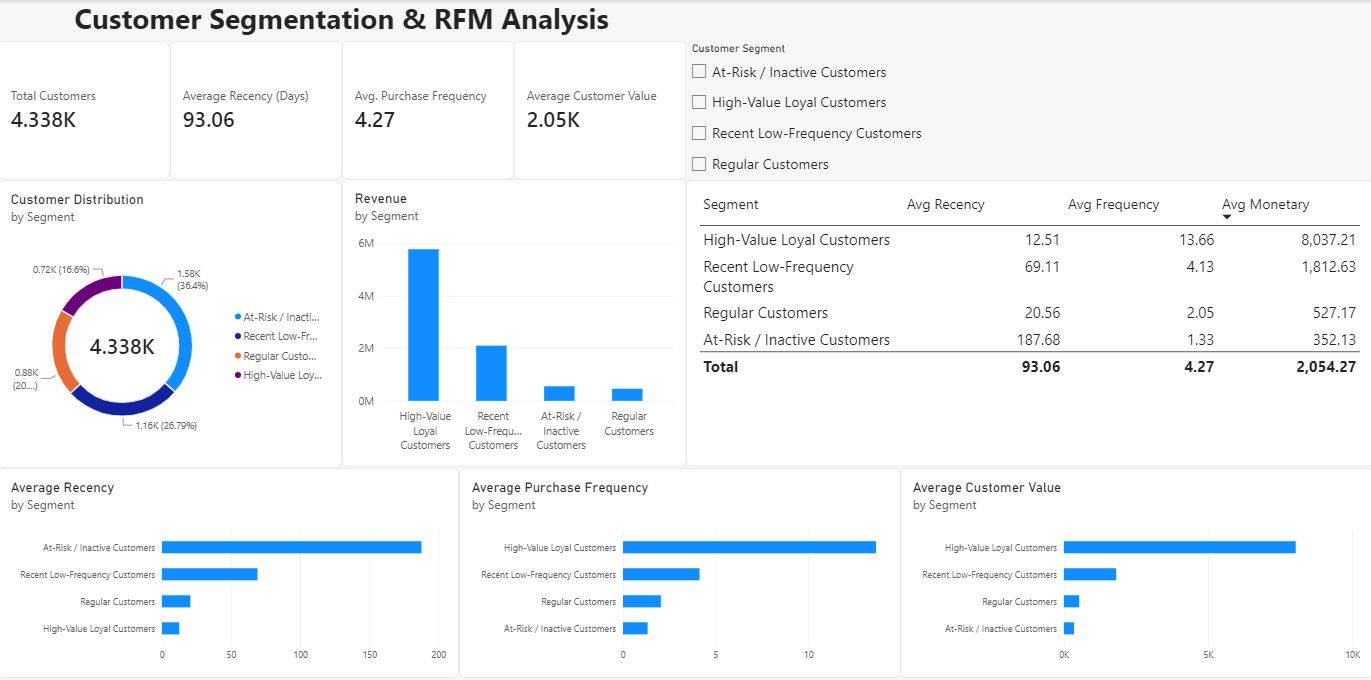

The page's visual inventory and layout, read from the dashboard file:
{"tool":"powerbi","page":{"name":"Customer Segmentation","canvas":[1920,1080],"ordinal":1},"visuals":[{"type":"textbox","box":[24.3,-0.7,914.3,55.7],"z":0},{"type":"cardVisual","fields":{"Data":["Count(customer_segments.CustomerID)"]},"box":[24.3,55,228.6,184.3],"z":1000},{"type":"cardVisual","fields":{"Data":["Avg(customer_segments.Recency)"]},"box":[252.9,55,229,184],"z":2000},{"type":"cardVisual","fields":{"Data":["Avg(customer_segments.Frequency)"]},"box":[481.4,55,229,184],"z":3000},{"type":"cardVisual","fields":{"Data":["Avg(customer_segments.Monetary)"]},"box":[710,55,229,184],"z":4000},{"type":"donutChart","fields":{"Category":["customer_segments.Segment"],"Y":["Count(customer_segments.CustomerID)"]},"box":[24.3,239.3,457.1,382.9],"z":5000},{"type":"clusteredColumnChart","fields":{"Category":["customer_segments.Segment"],"Y":["Sum(customer_segments.Monetary)"]},"box":[481.8,238.7,457.5,383.1],"z":6000},{"type":"tableEx","fields":{"Values":["customer_segments.Segment","customer_segments.Recency","customer_segments.Frequency","customer_segments.Monetary"]},"box":[938.6,240,914.3,381.4],"z":7000},{"type":"clusteredBarChart","fields":{"Category":["customer_segments.Segment"],"Y":["Avg(customer_segments.Recency)"]},"box":[24.3,622.9,612.9,278.6],"z":8000},{"type":"clusteredBarChart","fields":{"Category":["customer_segments.Segment"],"Y":["Avg(customer_segments.Frequency)"]},"box":[637.1,622.9,587.1,278.6],"z":9000},{"type":"slicer","fields":{"Values":["customer_segments.Segment"]},"box":[938.6,55.7,334.3,184.3],"z":10000},{"type":"clusteredBarChart","fields":{"Category":["customer_segments.Segment"],"Y":["Avg(customer_segments.Monetary)"]},"box":[1224.3,622.9,628.6,278.6],"z":11000}]}

Visuals, with their boxes on the page's 1920x1080 design canvas (x1, y1, x2, y2). These are canvas units, not pixel positions in the 1371x680 screenshot, which may show the page scaled, cropped or inside an application window:
textbox: 24 -1 939 55
cardVisual - Count(customer_segments.CustomerID): 24 55 253 239
cardVisual - Avg(customer_segments.Recency): 253 55 482 239
cardVisual - Avg(customer_segments.Frequency): 481 55 710 239
cardVisual - Avg(customer_segments.Monetary): 710 55 939 239
donutChart - customer_segments.Segment x Count(customer_segments.CustomerID): 24 239 481 622
clusteredColumnChart - customer_segments.Segment x Sum(customer_segments.Monetary): 482 239 939 622
tableEx - customer_segments.Segment x customer_segments.Recency: 939 240 1853 621
clusteredBarChart - customer_segments.Segment x Avg(customer_segments.Recency): 24 623 637 902
clusteredBarChart - customer_segments.Segment x Avg(customer_segments.Frequency): 637 623 1224 902
slicer - customer_segments.Segment: 939 56 1273 240
clusteredBarChart - customer_segments.Segment x Avg(customer_segments.Monetary): 1224 623 1853 902
